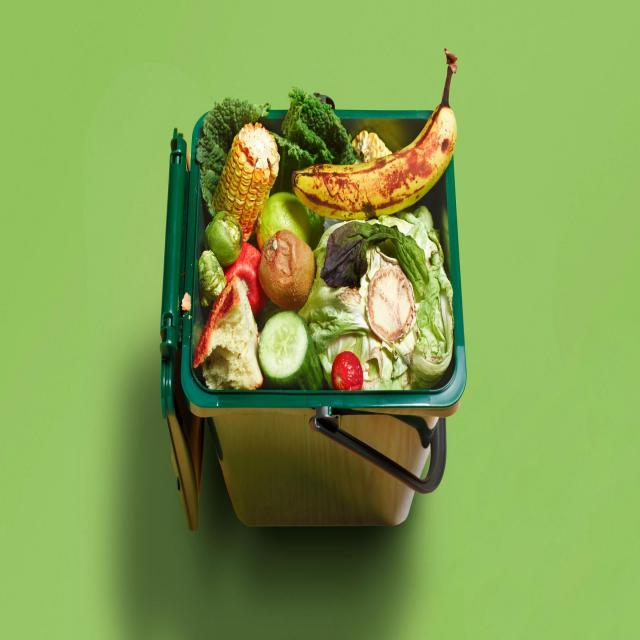Food -Biodegradable-: (188, 50, 458, 390)
